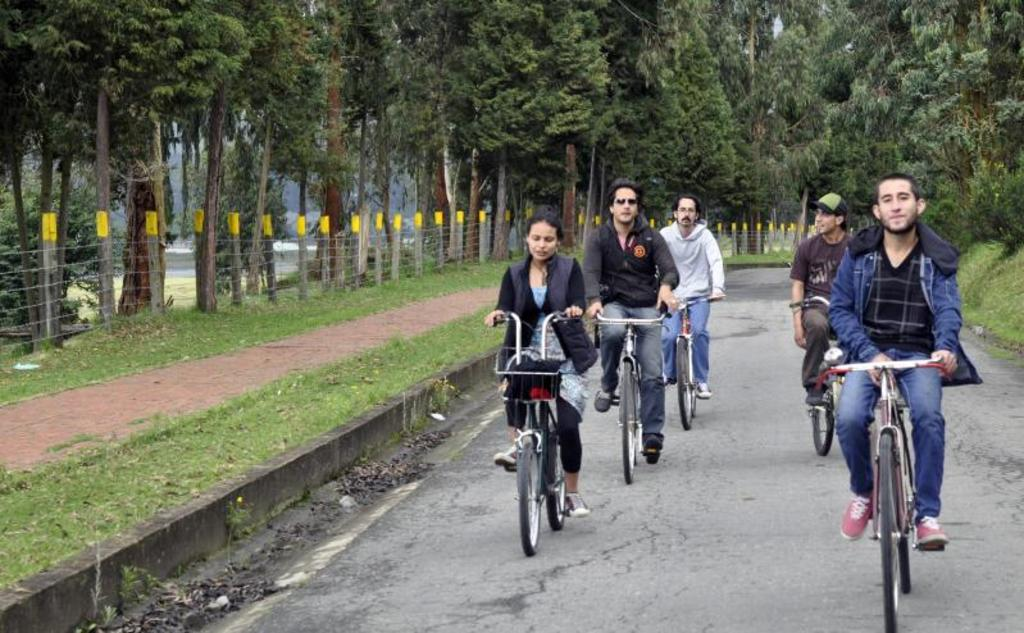Bike_toward: (808, 356, 962, 628), (490, 303, 599, 554), (593, 304, 672, 484)
